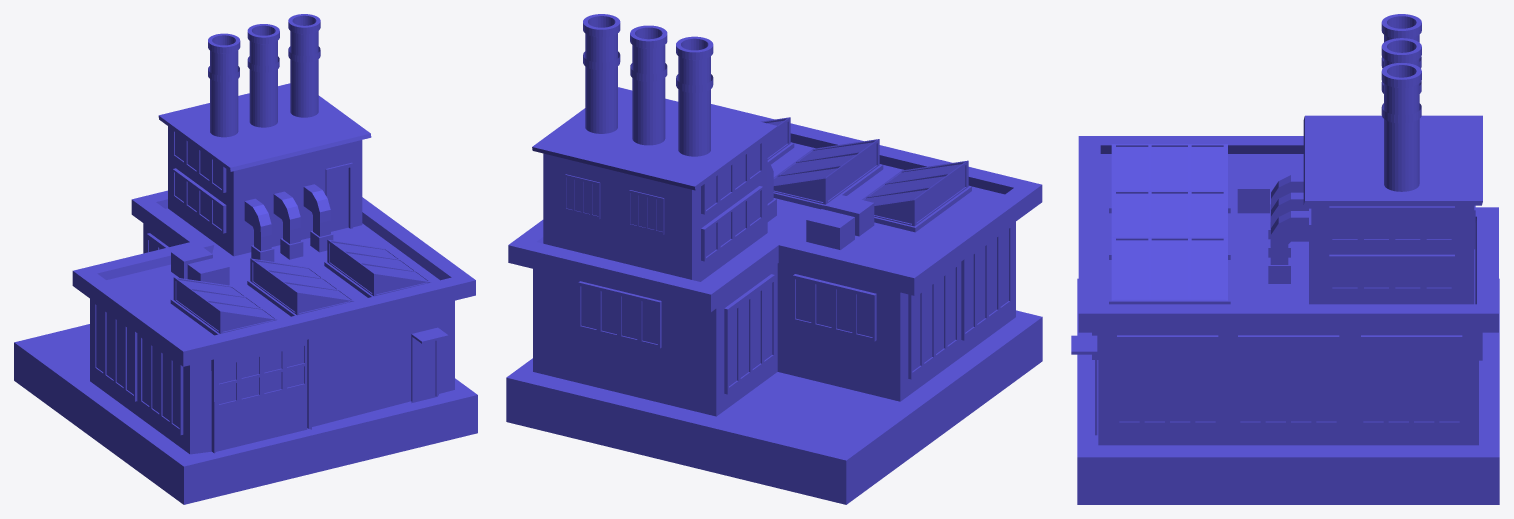
Rendered from factory_blueprint.fbx.
3 renders of one model, left to right at view 1: azimuth 30°, elevation 25°; view 2: azimuth 150°, elevation 25°; view 3: azimuth 270°, elevation 25°, orthographic. The views are drawn at different scales.
Parts seen in each view (by area): view 1: Factory_blueprint; view 2: Factory_blueprint; view 3: Factory_blueprint.
Boxes of the visible parts, left/top/right/bottom form: Factory_blueprint: left=14, top=14, right=477, bottom=504; Factory_blueprint: left=506, top=14, right=1042, bottom=504; Factory_blueprint: left=1071, top=14, right=1499, bottom=504.
Bounding box in the file's own units: 147 × 156 × 149.
